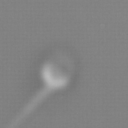normal: (1, 85, 52, 128)
